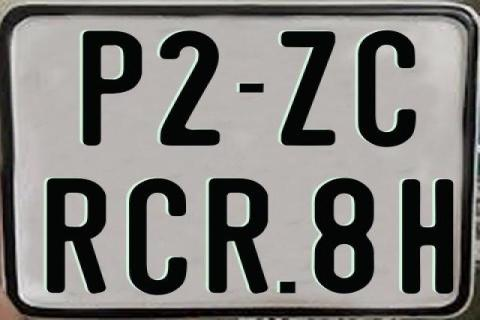0: (159, 28, 222, 146), (312, 175, 374, 293)
C: (128, 178, 187, 300), (356, 30, 415, 148)
H: (402, 178, 459, 296)
P: (83, 28, 142, 144)
R: (208, 179, 269, 297), (46, 177, 105, 293)
Z: (280, 30, 335, 148)
